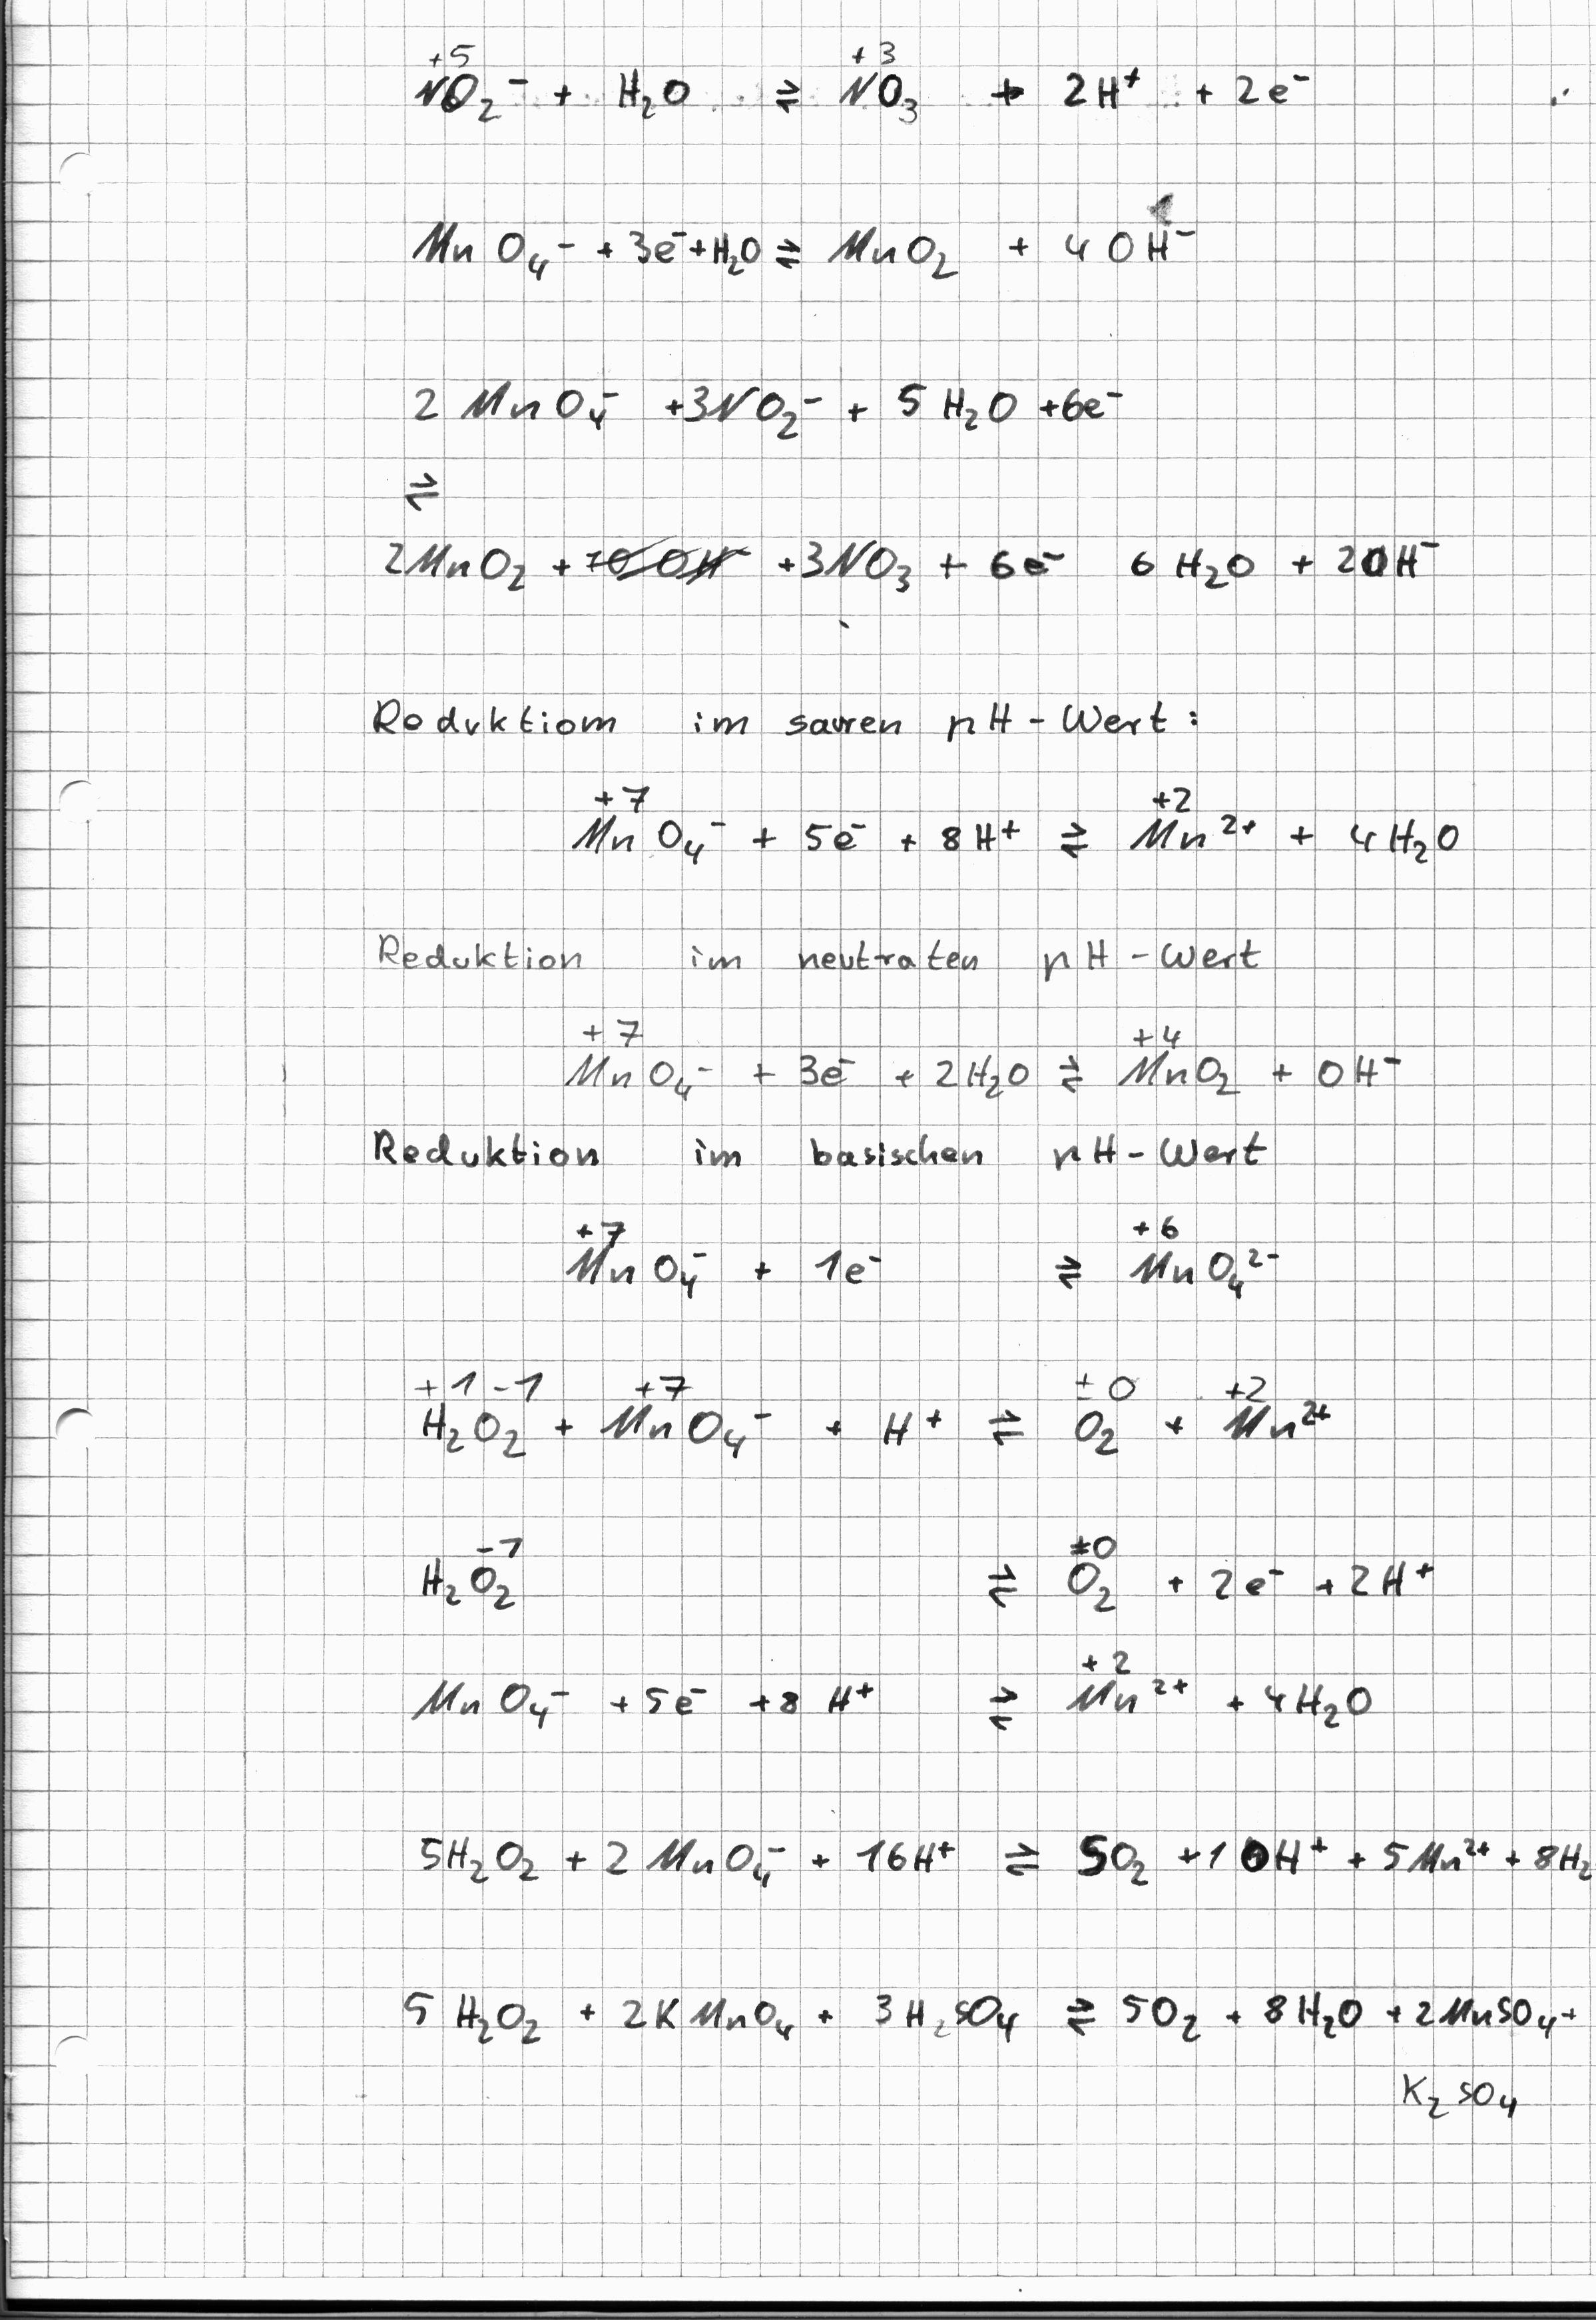word: (389, 1961, 1591, 2142), (402, 1795, 1596, 1908), (965, 1517, 1456, 1757), (399, 1351, 1336, 1476), (390, 173, 1226, 307), (396, 25, 1332, 137), (563, 769, 1470, 882), (354, 521, 1447, 608), (553, 1001, 1416, 1113), (557, 1199, 1292, 1324), (386, 354, 1142, 467), (362, 904, 1278, 992), (346, 677, 1230, 762), (360, 1110, 1282, 1184), (398, 1646, 912, 1765), (393, 1513, 579, 1641)
